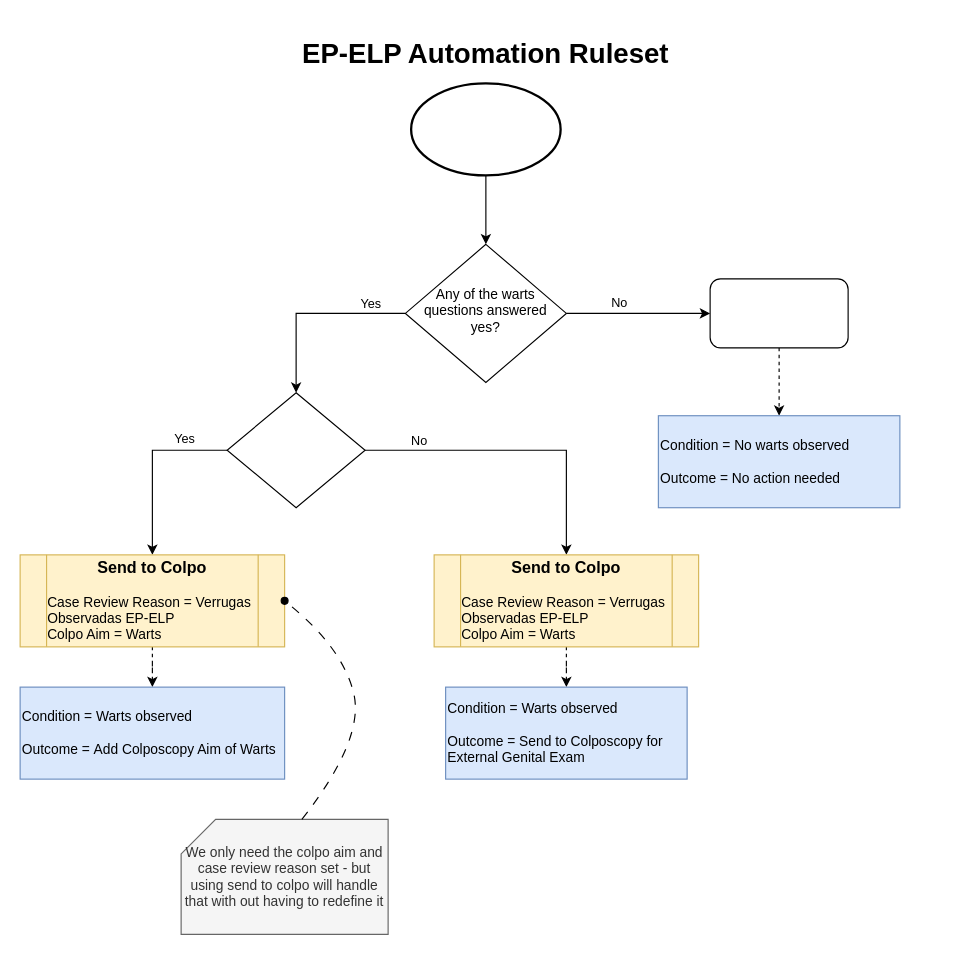
Some shapes in this 972 by 955 pixel diagram are drawn without their labels. The centre of each missing label's shape, as x and y in pixels:
do nothing: the point at 778,313
Is form at colpo visit?: the point at 295,450
Visit with EP-ELP form is completed: the point at 485,129
